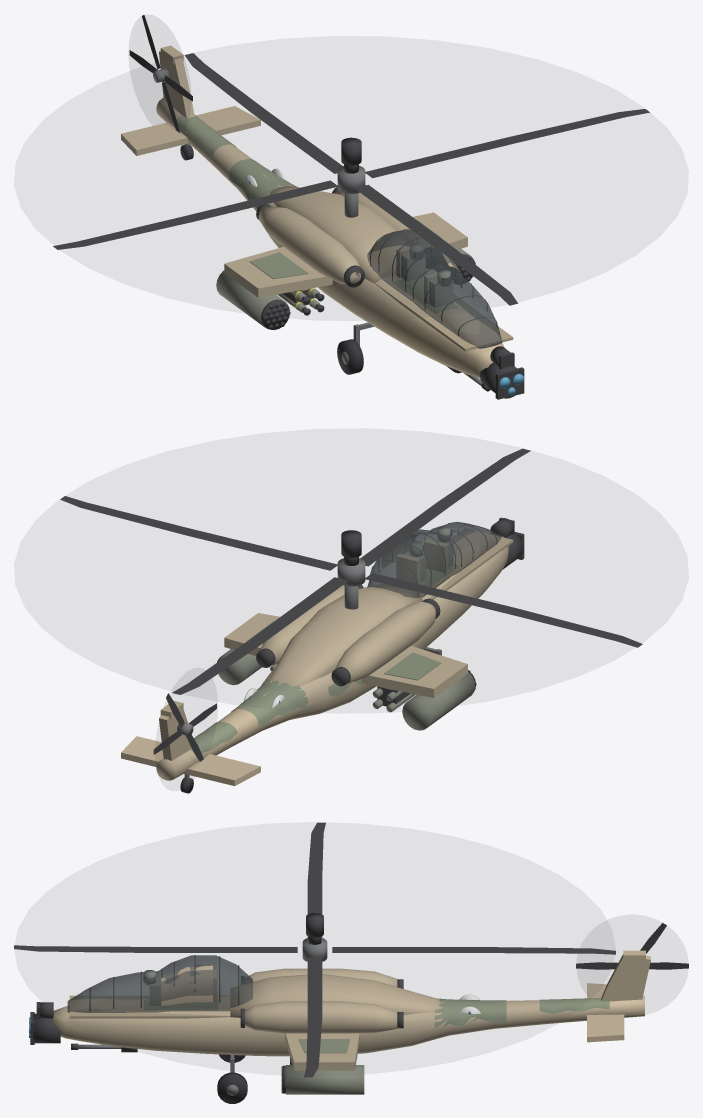
The model's file is heli_apache.glb.
3 renders of one model, top to bottom at view 1: azimuth 30°, elevation 25°; view 2: azimuth 150°, elevation 25°; view 3: azimuth 270°, elevation 25°, orthographic. The views are drawn at different scales.
Visible parts, largest first — view 1: HeliBody, Blade0, Blade2, Blade3, Blade1, Hub; view 2: HeliBody, Blade0, Blade2, Blade1, Blade3, Hub, MastSight; view 3: HeliBody, Blade0, Door, Blade3, Blade1, Blade2, DoorGlass, Hub.
Boxes of the visible parts, <box> form: HeliBody: <box>121,45,524,399</box>; Blade0: <box>365,109,649,178</box>; Blade2: <box>53,180,338,249</box>; Blade3: <box>354,184,518,305</box>; Blade1: <box>184,53,342,173</box>; Hub: <box>337,165,365,193</box>; HeliBody: <box>121,517,524,793</box>; Blade0: <box>60,496,337,570</box>; Blade2: <box>364,573,642,647</box>; Blade1: <box>172,577,348,694</box>; Blade3: <box>360,448,530,566</box>; Hub: <box>337,558,365,586</box>; MastSight: <box>341,530,361,557</box>; HeliBody: <box>29,950,650,1103</box>; Blade0: <box>304,957,322,1077</box>; Door: <box>161,965,212,1006</box>; Blade3: <box>14,945,297,952</box>; Blade1: <box>332,947,615,954</box>; Blade2: <box>307,822,325,937</box>; DoorGlass: <box>161,969,212,1001</box>; Hub: <box>302,938,327,961</box>.
Bounding box in the file's own units: 14.6 × 4.4 × 16.37.
